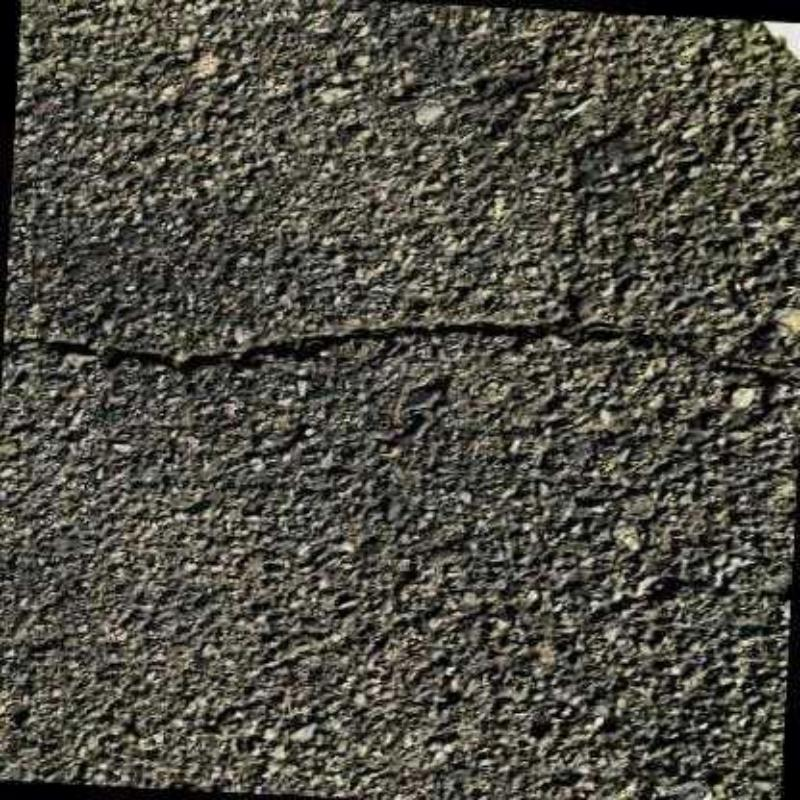pothole: (1, 324, 798, 432)
